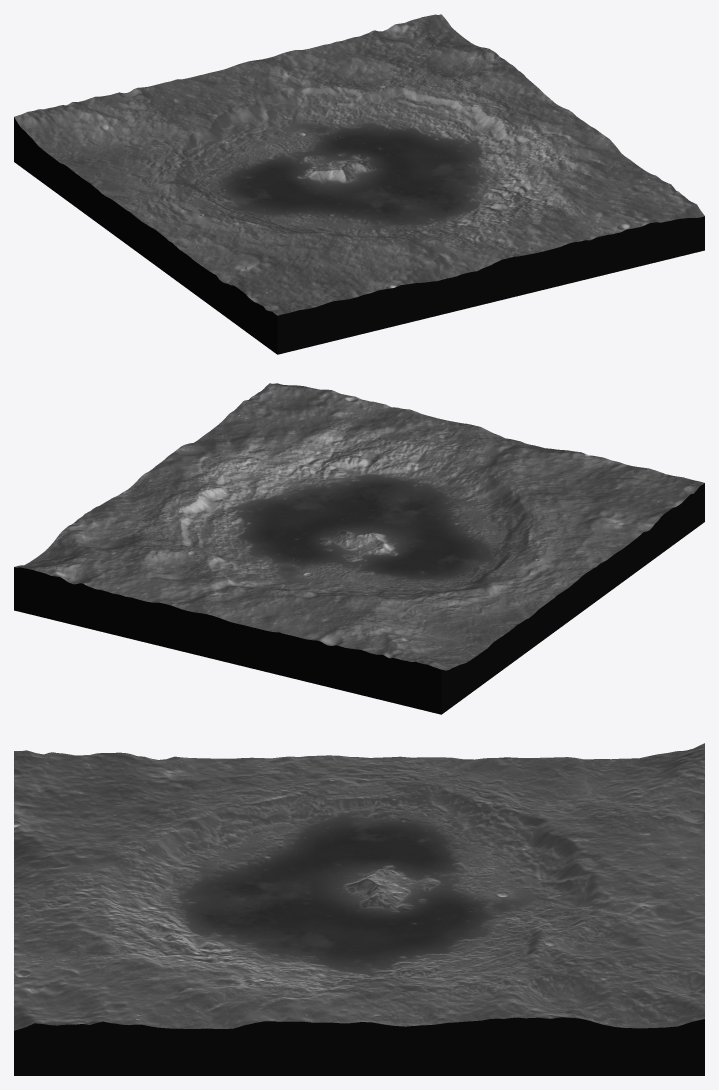
The picture shows the model from 3 angles, top to bottom: view 1: azimuth 30°, elevation 25°; view 2: azimuth 150°, elevation 25°; view 3: azimuth 270°, elevation 25°; orthographic projection. The views are drawn at different scales.
Visible parts, largest first — view 1: Tsiolkovskiy_LP; view 2: Tsiolkovskiy_LP; view 3: Tsiolkovskiy_LP.
Boxes of the visible parts, x1,y1,x2,y2 form: Tsiolkovskiy_LP: (14,14,704,354); Tsiolkovskiy_LP: (14,383,704,714); Tsiolkovskiy_LP: (14,743,704,1075).
Size of the model in its own units: 938179 by 98128 by 1001319.
2 materials, 1 textured.
